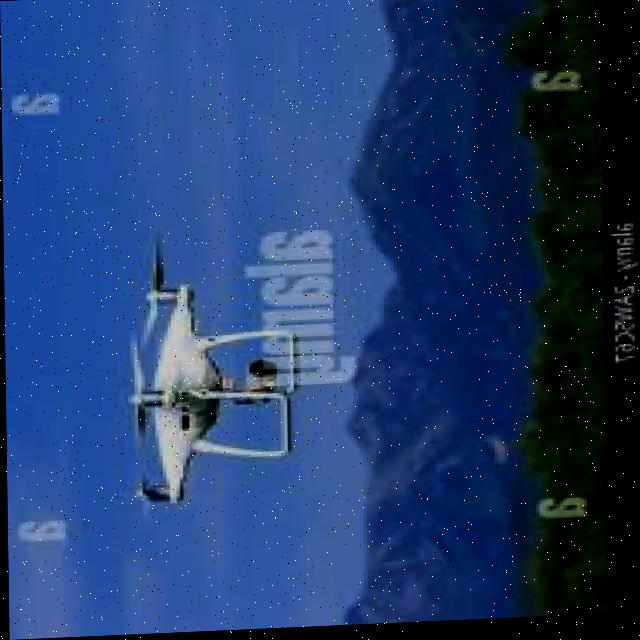drone: (101, 238, 324, 522)
